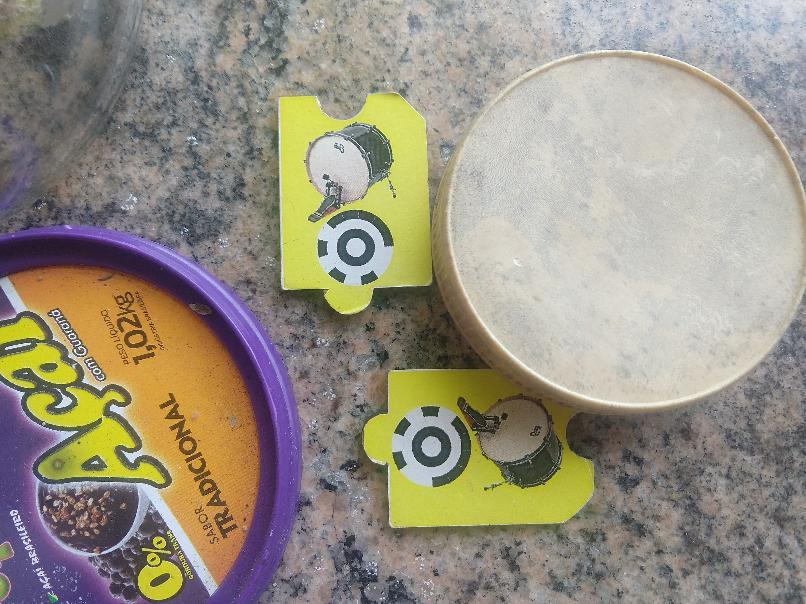bumbo: (365, 370, 598, 530), (273, 89, 434, 314)
